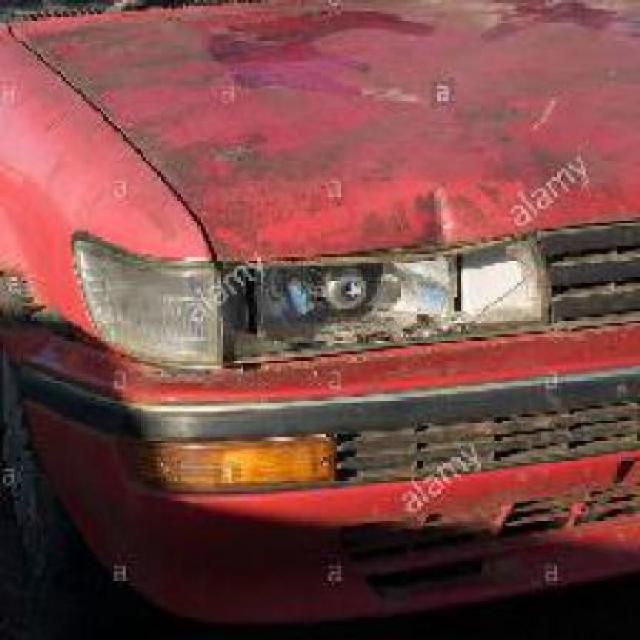damaged-head-light: (84, 240, 578, 360)
